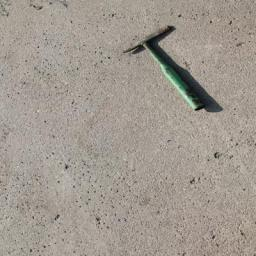FOD: (123, 23, 211, 115)
